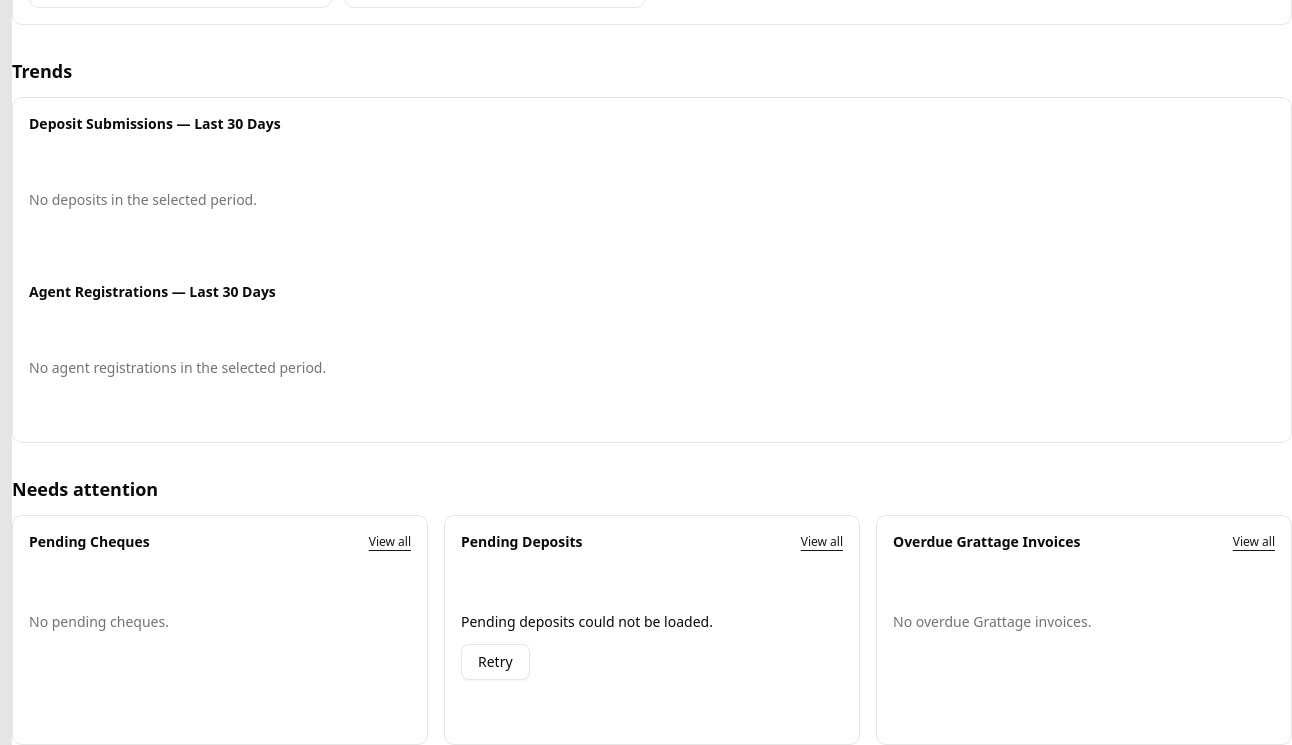
Test case: Pending Deposits widget › shows a retryable error state and recovers
The width and height of the screenshot is (1292, 745).
(page scrolled)
Click the button "Retry" at point(495, 662), box [461,644,530,680]
(page scrolled)
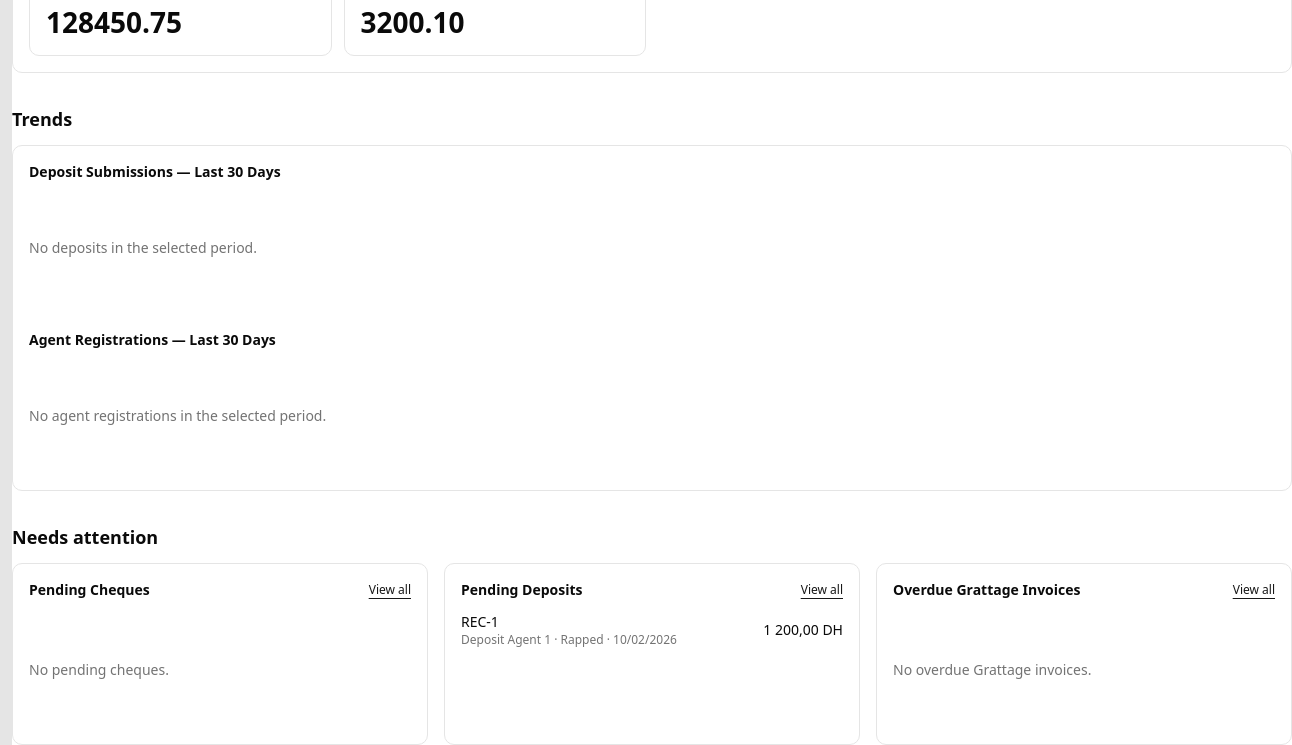
expect the text "Deposit Agent 1 · Rapped · 10/02/2026" is shown: met, box [461,632,677,648]
